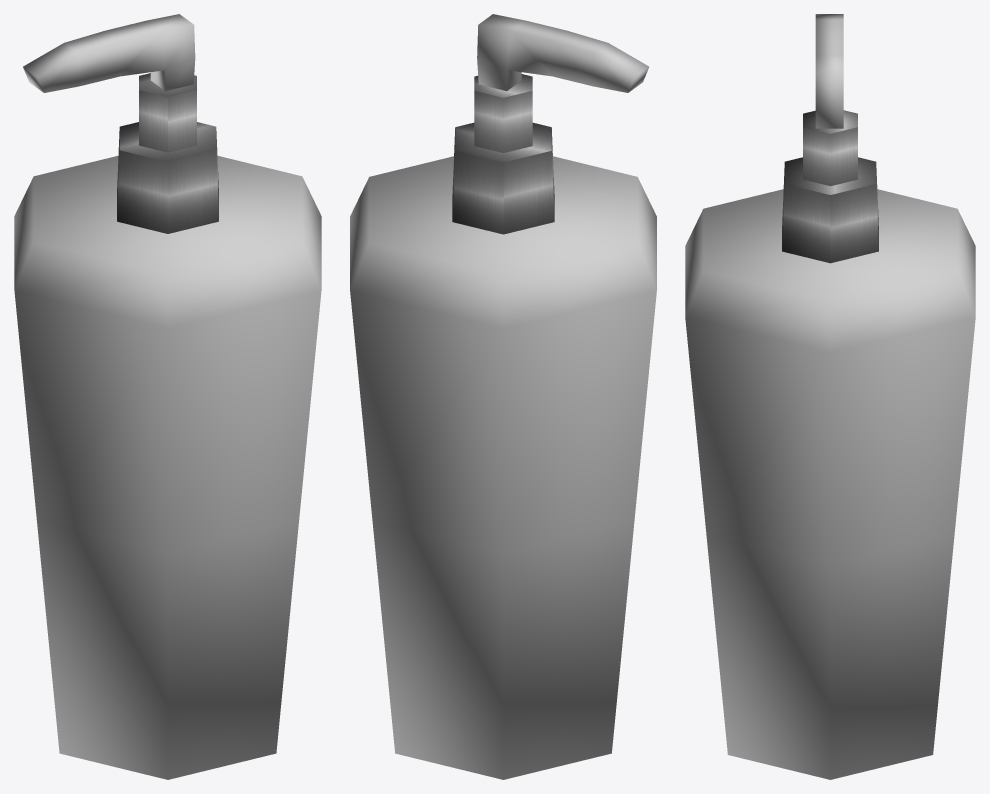
The model's file is Soap_Dispenser_K.FBX.
The picture shows the model from 3 angles, left to right: view 1: azimuth 30°, elevation 25°; view 2: azimuth 150°, elevation 25°; view 3: azimuth 270°, elevation 25°; orthographic projection. The views are drawn at different scales.
Parts seen in each view (by area): view 1: Soap_Dispenser; view 2: Soap_Dispenser; view 3: Soap_Dispenser.
Part boxes in pixels (x1=…): Soap_Dispenser: x1=14, y1=14, x2=321, y2=779; Soap_Dispenser: x1=350, y1=14, x2=656, y2=779; Soap_Dispenser: x1=685, y1=14, x2=975, y2=779.
Bounding box in the file's own units: 18.48 × 40.55 × 16.01.
